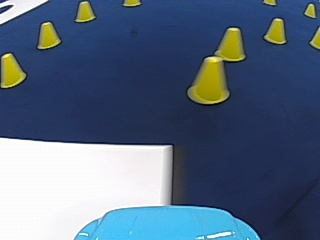cone: (188, 55, 230, 104), (215, 26, 246, 61), (0, 52, 25, 87), (36, 21, 60, 49), (264, 17, 287, 43), (75, 0, 95, 22), (309, 26, 319, 50), (303, 2, 315, 18)
